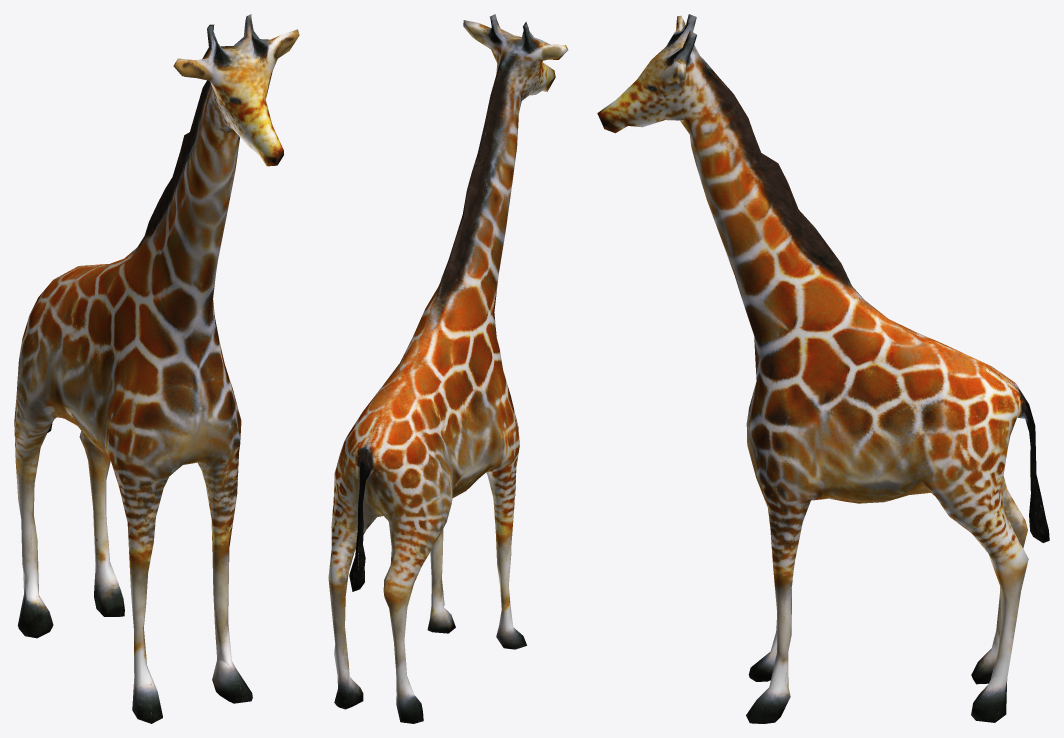
File: uploads_files_5014745_Giraffe_Low_Poly.fbx
3 renders of one model, left to right at view 1: azimuth 30°, elevation 25°; view 2: azimuth 150°, elevation 25°; view 3: azimuth 270°, elevation 25°, orthographic. The views are drawn at different scales.
Visible parts, largest first — view 1: Giraffe_Low_Poly; view 2: Giraffe_Low_Poly; view 3: Giraffe_Low_Poly.
Boxes of the visible parts, x1,y1,x2,y2 form: Giraffe_Low_Poly: (14, 14, 299, 723); Giraffe_Low_Poly: (328, 14, 568, 723); Giraffe_Low_Poly: (597, 14, 1049, 723).
Bounding box in the file's own units: 102 × 537 × 324.
